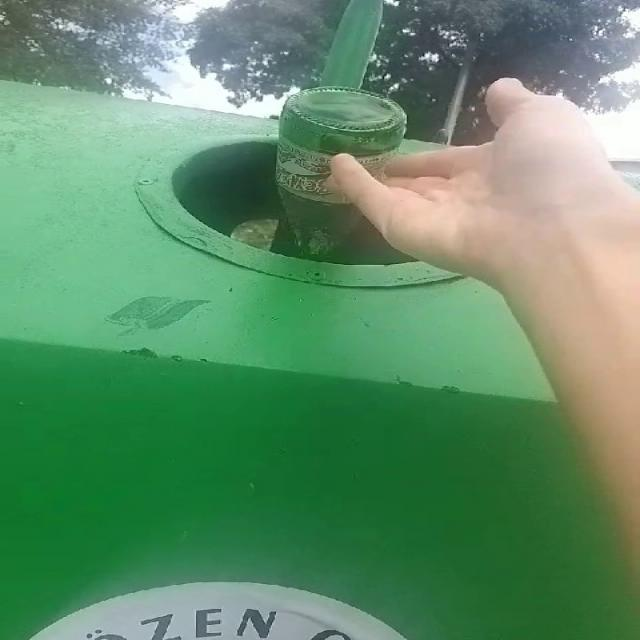Glass: (272, 85, 407, 252)
